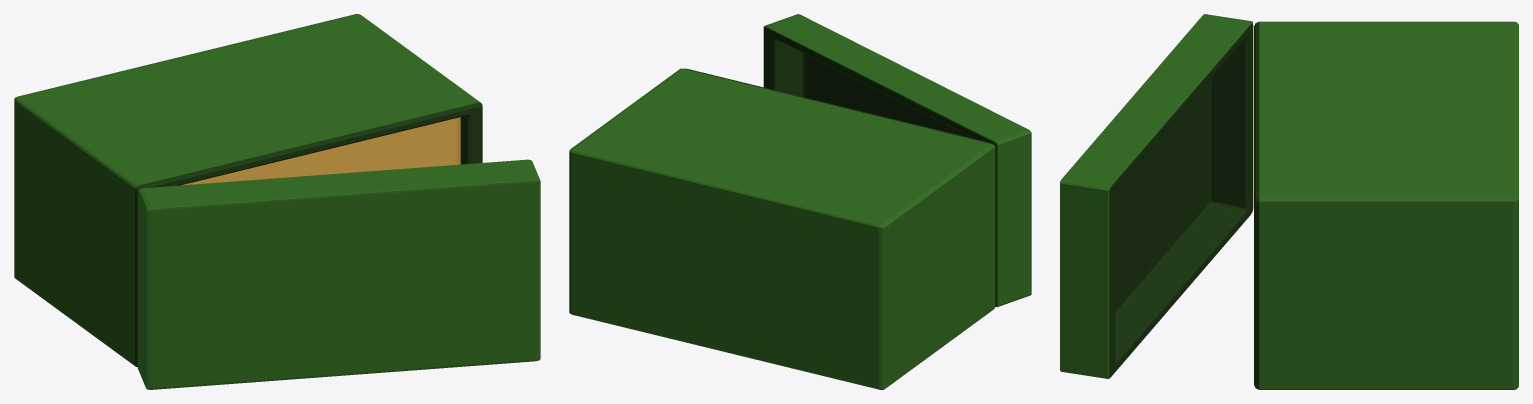
File: pickup_ammoBox.glb
The picture shows the model from 3 angles, left to right: view 1: azimuth 30°, elevation 25°; view 2: azimuth 150°, elevation 25°; view 3: azimuth 270°, elevation 25°; orthographic projection. The views are drawn at different scales.
Visible parts, largest first — view 1: ammo_top, ammo_base; view 2: ammo_base, ammo_top; view 3: ammo_base, ammo_top.
Part boxes in pixels (x1,y1,x2,y2): ammo_top: (137, 159, 540, 389); ammo_base: (14, 14, 482, 366); ammo_base: (569, 68, 995, 389); ammo_top: (763, 14, 1031, 307); ammo_base: (1254, 21, 1518, 389); ammo_top: (1060, 14, 1253, 378).
Size of the model in its own units: 1.67 by 0.815 by 1.73.
